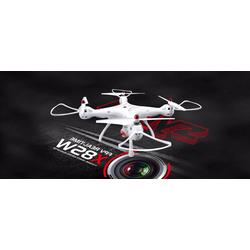drone: (50, 87, 202, 157)
